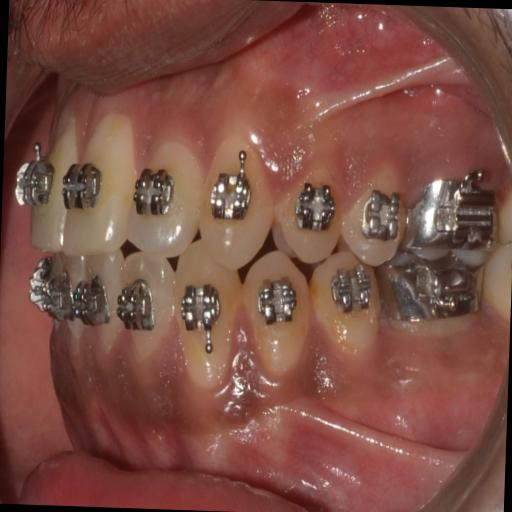correct_brace: (304, 246, 389, 370), (270, 150, 344, 258), (326, 256, 374, 326), (254, 272, 304, 336), (178, 278, 223, 344), (130, 166, 178, 220), (62, 158, 102, 220), (116, 278, 158, 336)
incorrect_brace: (166, 240, 244, 376), (131, 129, 205, 263), (290, 166, 342, 250)
